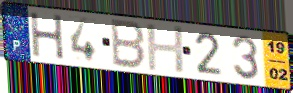2: (193, 30, 225, 76)
3: (229, 34, 261, 81)
4: (69, 16, 100, 64)
B: (110, 17, 147, 71)
H: (144, 23, 188, 75), (28, 12, 67, 62)
